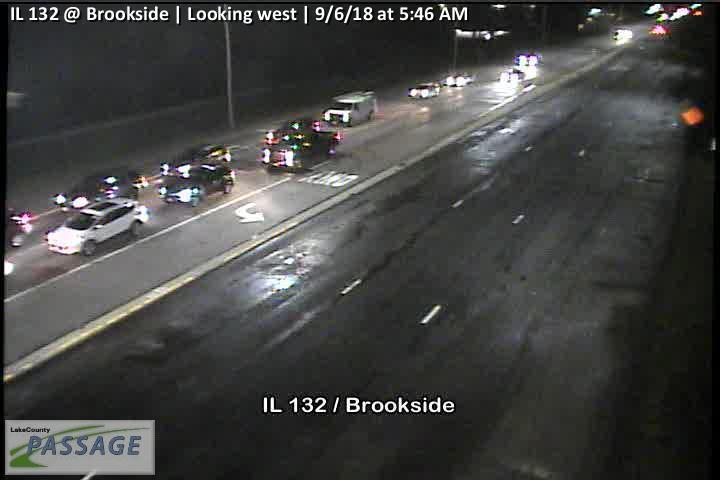SUV: (51, 165, 138, 210), (260, 129, 342, 173), (159, 163, 234, 205), (161, 142, 231, 179), (265, 118, 326, 149)
Sedan: (46, 197, 148, 256), (407, 80, 439, 97)
Truck: (322, 90, 377, 128)
